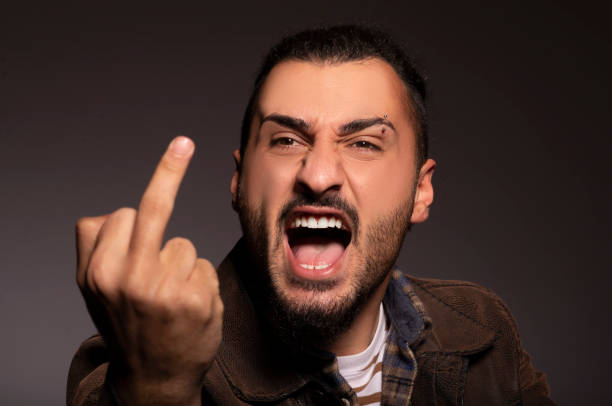insulting_gesture: (73, 132, 229, 371)
